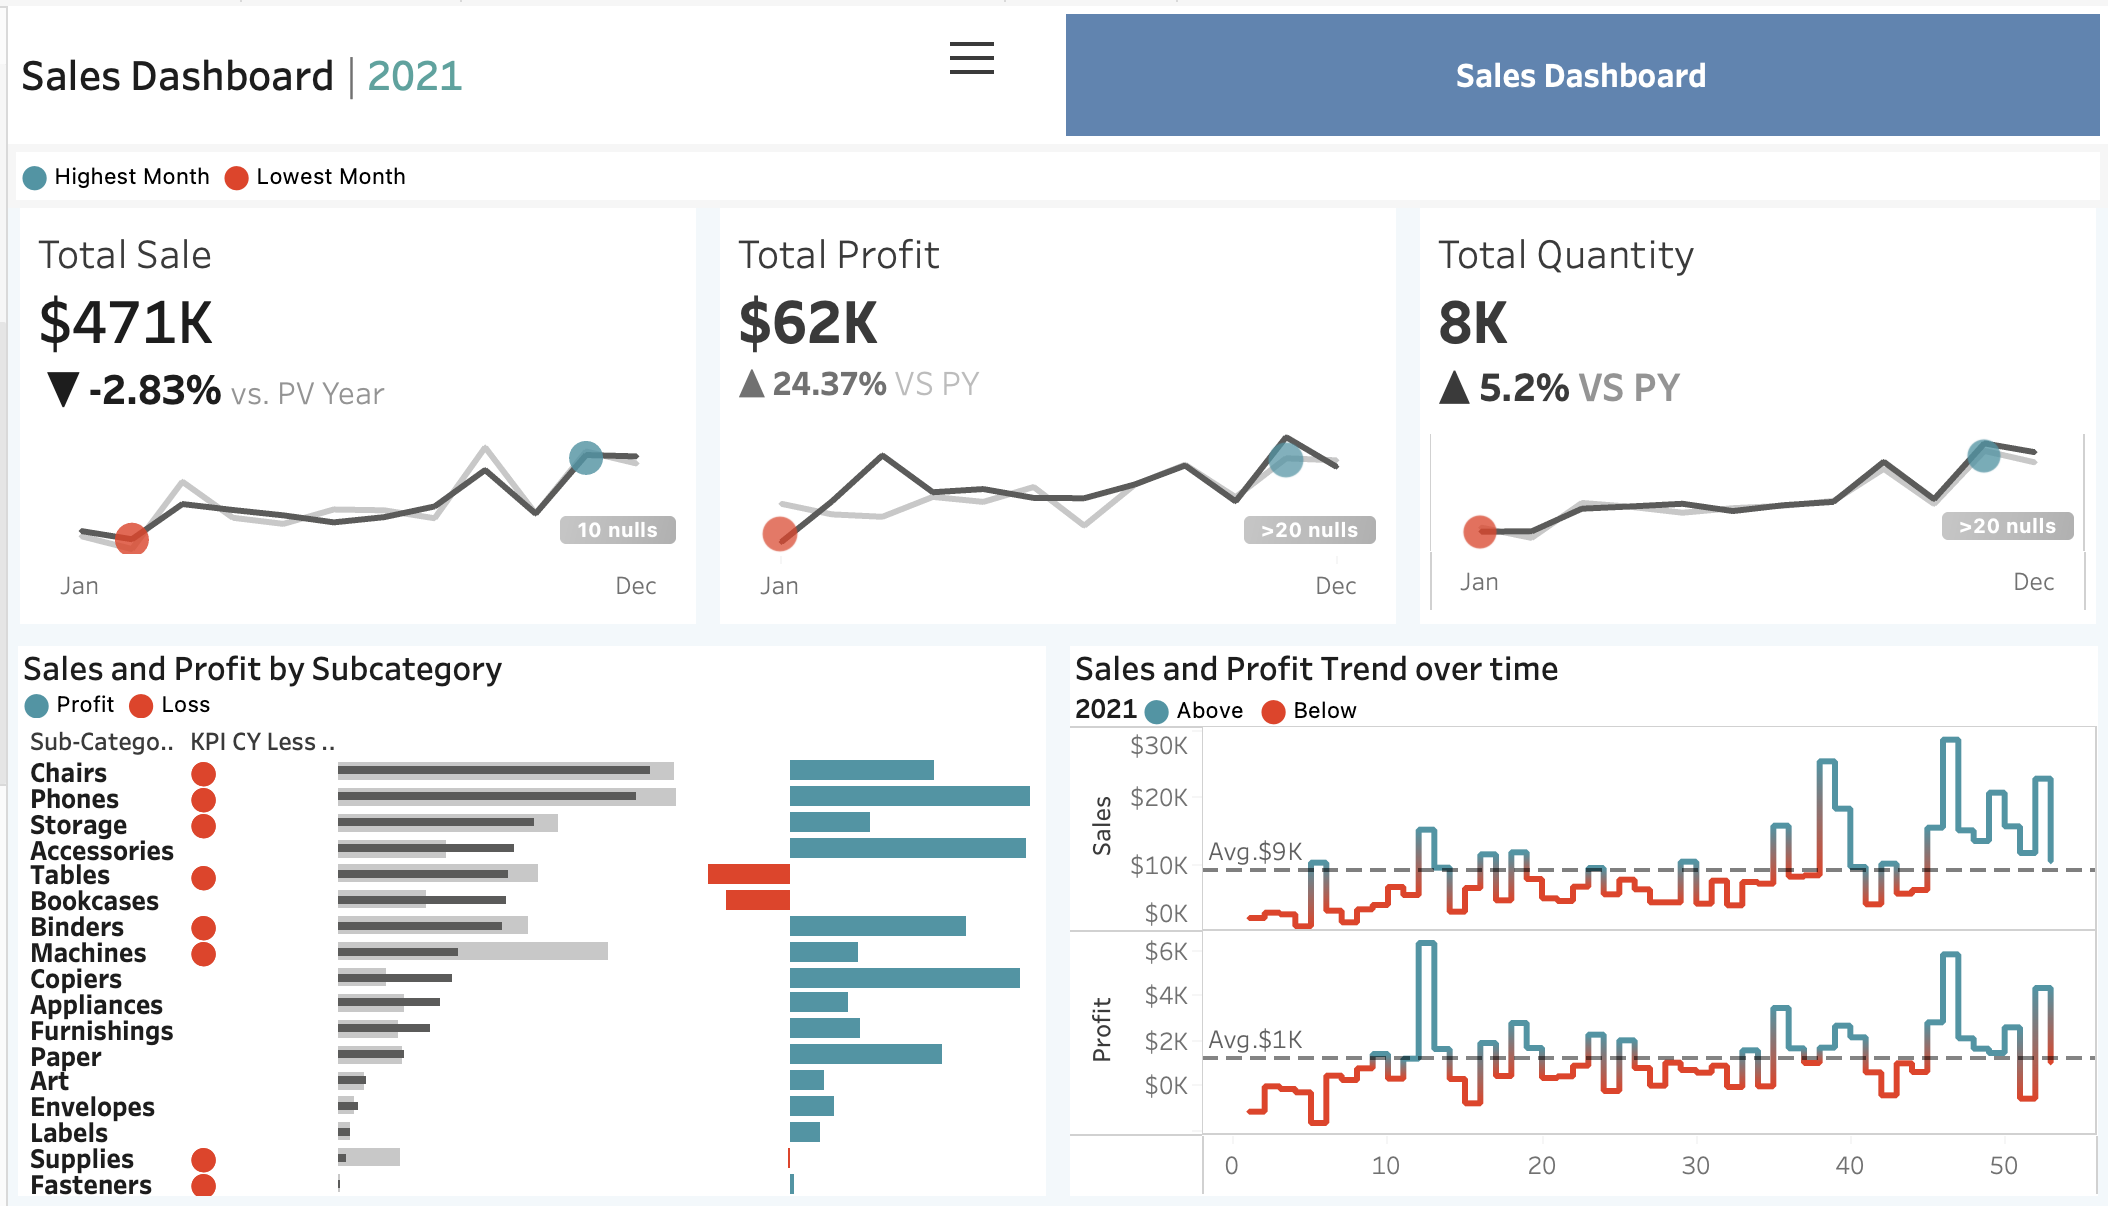

The page's visual inventory and layout, read from the dashboard file:
{"tool":"tableau","page":{"name":"Sales Dashboard","canvas":[1050,600],"ordinal":0},"visuals":[{"type":"text","box":[0,0,525,69]},{"type":"dashboard-object","box":[525,0,525,69]},{"type":"text","box":[891,13,142,50]},{"type":"dashboard-object","box":[470,14,24,24]},{"type":"parameter","param":"[Parameters].[Order Date(Year) Parameter]","box":[891,63,142,61]},{"type":"text","box":[0,69,1050,32]},{"type":"worksheet","title":"KPI SALES","mark":"Line","rows":["Calculation_3874784554161491972"],"cols":["Order Date"],"box":[0,101,350,214]},{"type":"worksheet","title":"KPI PROFIT","mark":"Automatic","rows":["Calculation_42713855011143685"],"cols":["Order Date"],"box":[350,101,350,214]},{"type":"worksheet","title":"KPI QUANTITY","mark":"Automatic","rows":["Calculation_42713855258161165"],"cols":["Order Date"],"box":[700,101,350,214]},{"type":"blank","box":[891,124,142,64]},{"type":"text","box":[891,188,142,25]},{"type":"filter","title":"KPI SALES","param":"[federated.1sjx93u065y3wk186ncbt12617bd].[none:Category:nk]","box":[891,213,142,52]},{"type":"filter","title":"KPI SALES","param":"[federated.1sjx93u065y3wk186ncbt12617bd].[none:Sub-Category:nk]","box":[891,265,142,52]},{"type":"blank","box":[891,317,142,66]},{"type":"text","box":[5,320,520,22]},{"type":"text","box":[525,320,520,22]},{"type":"text","box":[5,342,520,14]},{"type":"text","box":[525,342,520,18]},{"type":"worksheet","title":"Subcategory Comparison","mark":"Bar","rows":["Sub-Category","Calculation_42713855275692048"],"cols":["CY Sales (copy)_3874784554144178177","Calculation_3874784554143367168","Calculation_42713854873137154"],"box":[5,356,520,239]},{"type":"worksheet","title":"Weekly Trend","mark":"Automatic","rows":["Calculation_3874784554143367168","Calculation_42713854873137154"],"cols":["Order Date"],"box":[525,360,520,235]},{"type":"text","box":[891,383,142,25]},{"type":"filter","title":"KPI SALES","param":"[federated.1sjx93u065y3wk186ncbt12617bd].[none:Country/Region:nk]","box":[891,408,142,52]},{"type":"filter","title":"KPI SALES","param":"[federated.1sjx93u065y3wk186ncbt12617bd].[none:State:nk]","box":[891,460,142,52]},{"type":"filter","title":"KPI SALES","param":"[federated.1sjx93u065y3wk186ncbt12617bd].[none:City:nk]","box":[891,512,142,52]}]}

Visuals, with their boxes in screenshot pixels (x1, y1, x2, y2), scaled from the page's 1050x600 canvas onto the 2108x1206 screenshot:
text: <box>0,0,1054,139</box>
dashboard-object: <box>1054,0,2107,139</box>
text: <box>1789,26,2074,127</box>
dashboard-object: <box>944,28,992,76</box>
parameter: <box>1789,127,2074,249</box>
text: <box>0,139,2107,203</box>
"KPI SALES" worksheet (Line marks): <box>0,203,703,633</box>
"KPI PROFIT" worksheet: <box>703,203,1405,633</box>
"KPI QUANTITY" worksheet: <box>1405,203,2107,633</box>
blank: <box>1789,249,2074,378</box>
text: <box>1789,378,2074,428</box>
"KPI SALES" filter: <box>1789,428,2074,533</box>
"KPI SALES" filter: <box>1789,533,2074,637</box>
blank: <box>1789,637,2074,770</box>
text: <box>10,643,1054,687</box>
text: <box>1054,643,2098,687</box>
text: <box>10,687,1054,716</box>
text: <box>1054,687,2098,724</box>
"Subcategory Comparison" worksheet (Bar marks): <box>10,716,1054,1196</box>
"Weekly Trend" worksheet: <box>1054,724,2098,1196</box>
text: <box>1789,770,2074,820</box>
"KPI SALES" filter: <box>1789,820,2074,925</box>
"KPI SALES" filter: <box>1789,925,2074,1029</box>
"KPI SALES" filter: <box>1789,1029,2074,1134</box>
